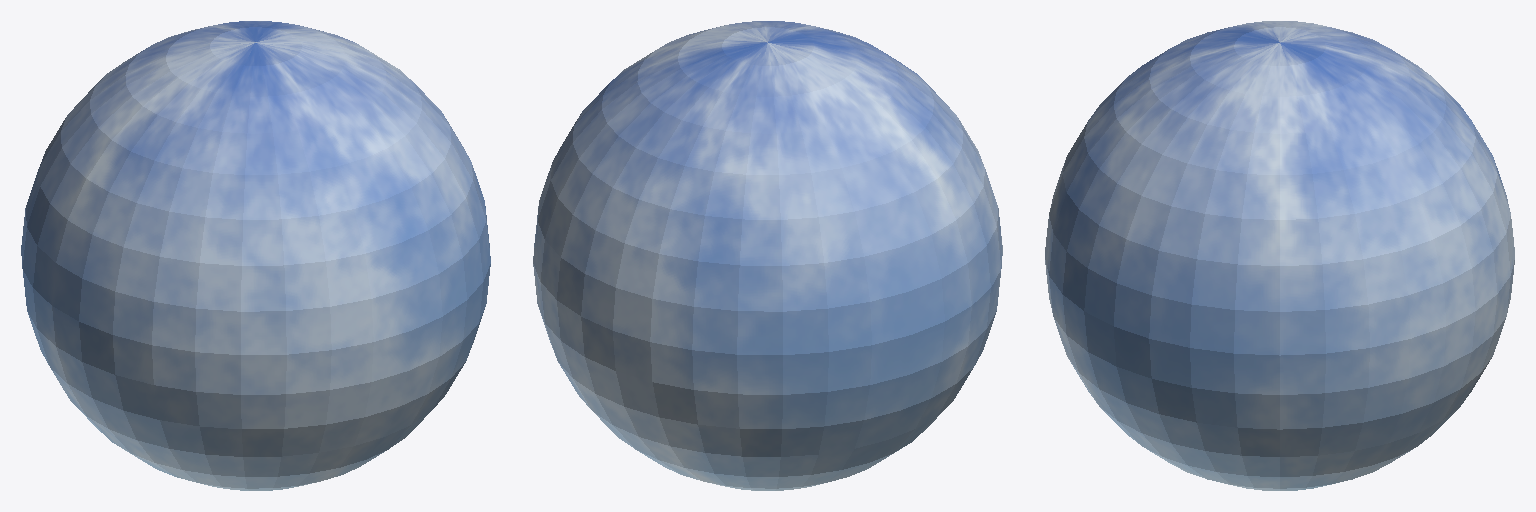
3 views of the same model, side by side, from view 1: azimuth 30°, elevation 25°; view 2: azimuth 150°, elevation 25°; view 3: azimuth 270°, elevation 25° (orthographic).
Visible parts, largest first — view 1: 球; view 2: 球; view 3: 球.
Part boxes in pixels (x1,y1,x2,y2): 球: (21,21,490,490); 球: (533,21,1002,490); 球: (1045,21,1514,490).
Bounding box in the file's own units: 1000 × 1000 × 1000.
Materials: 1 (1 with a texture image).